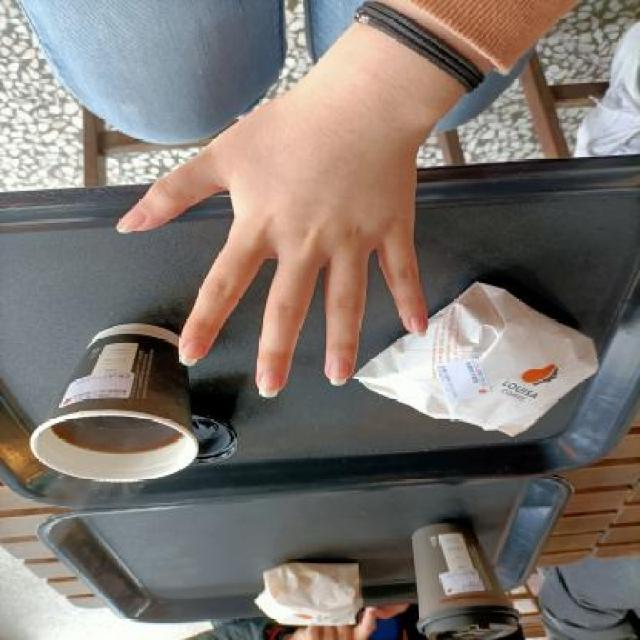bare_hand: (104, 72, 452, 410)
